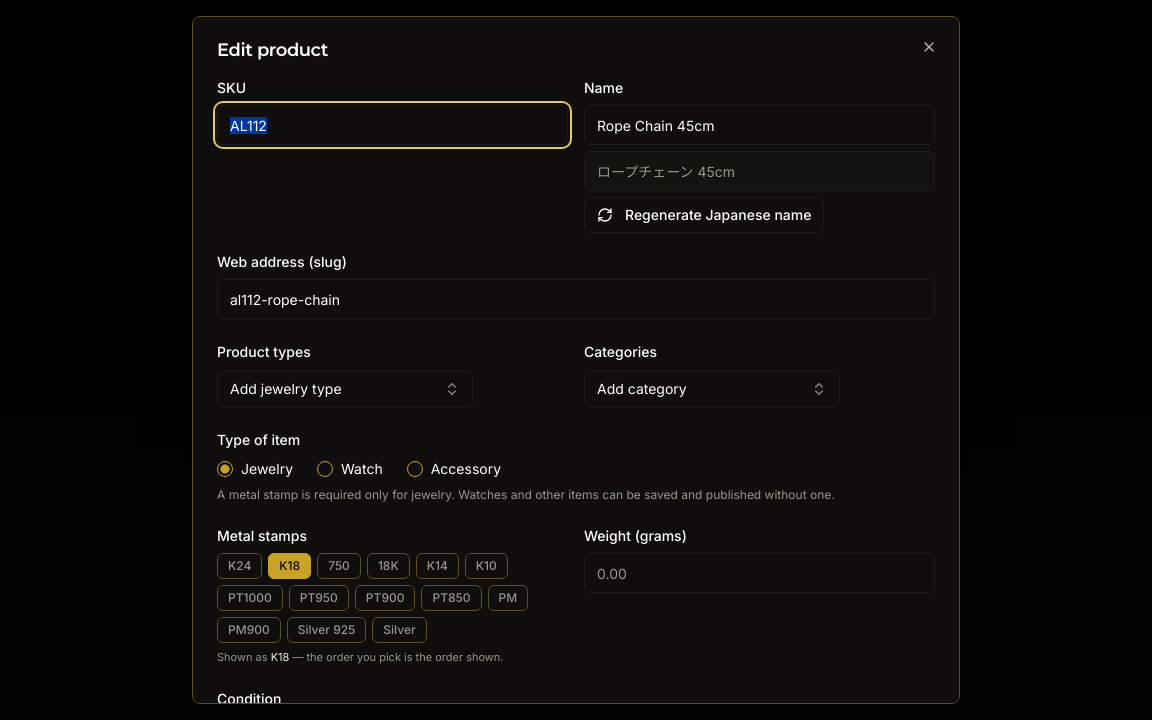
Test: editor warning › appears as soon as the English name is edited, and goes away when it is put back
Replace the text in the field with placeholder "K18 Rope Chain 45cm" with "Rope Chain 50cm" at point(760, 125), box [584,105,935,145]
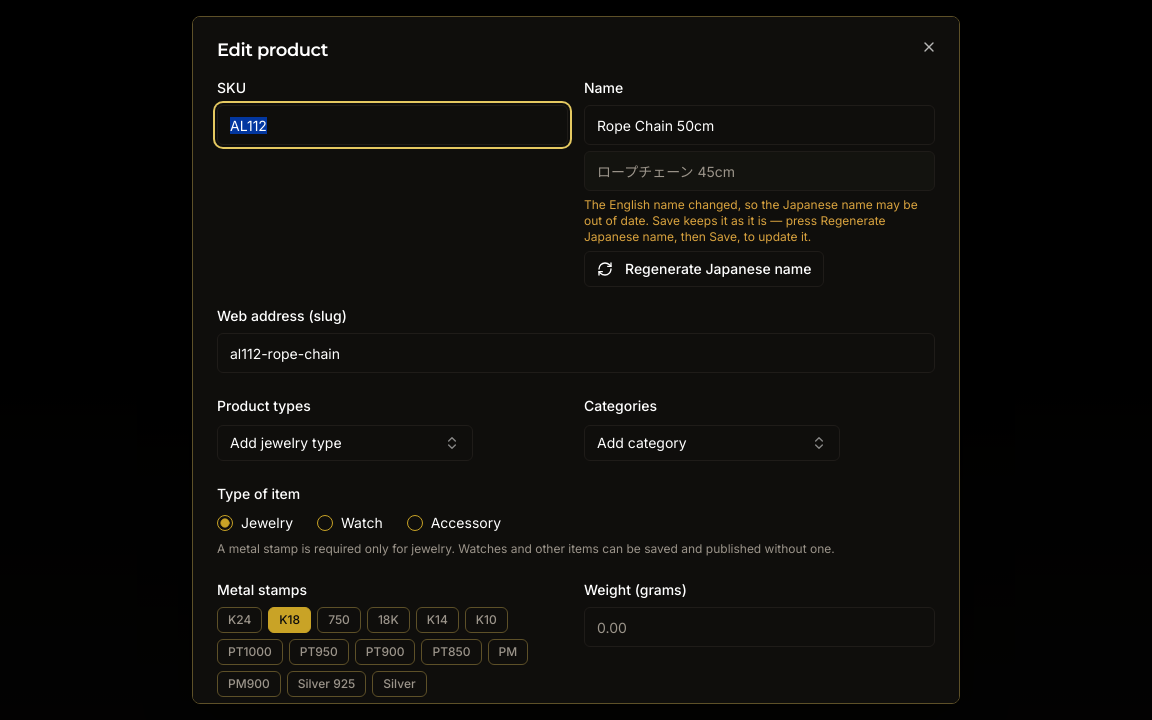
Expected: the message with test id "name-ja-stale" shows "Regenerate Japanese name", [584,197,918,244]
Replace the text in the field with placeholder "K18 Rope Chain 45cm" with "Rope Chain 45cm" at point(760, 125), box [584,105,935,145]
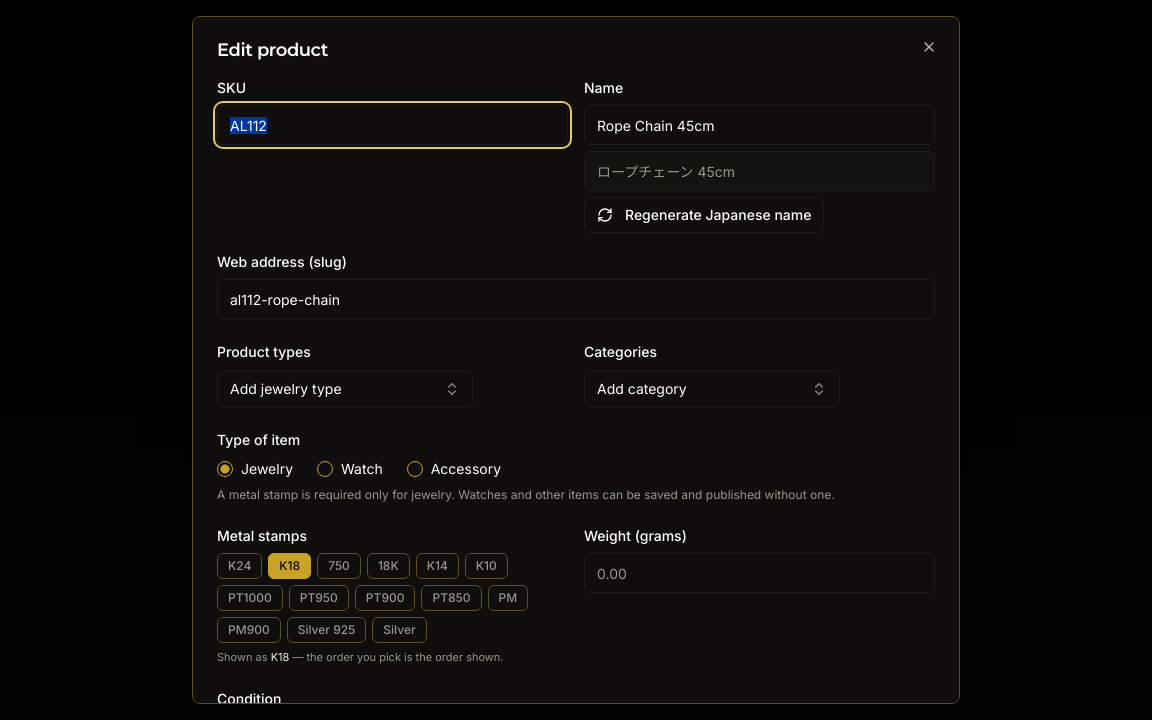
Expected: the message with test id "name-ja-stale" is gone
